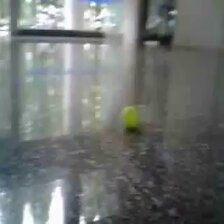tennis: (121, 107, 137, 127)
